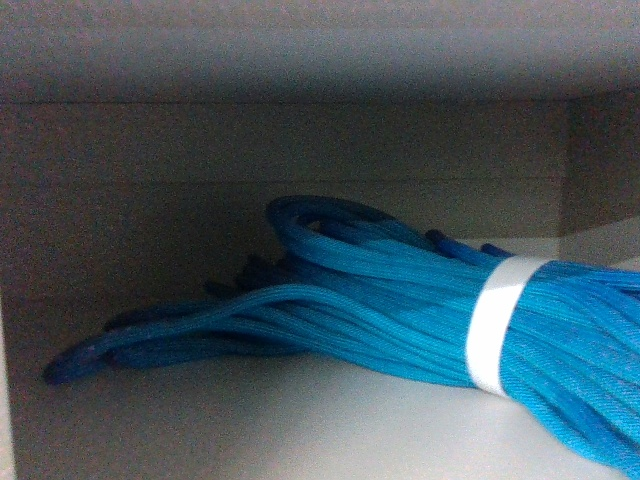rope: (34, 188, 639, 480)
